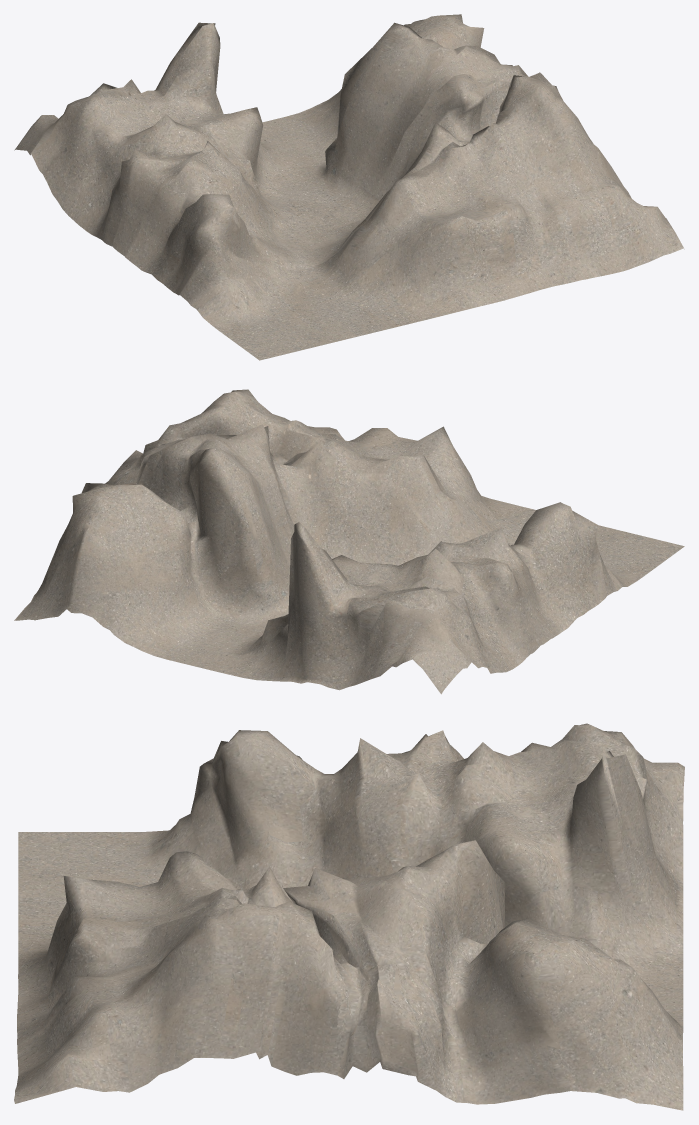
The model's file is Canyon.fbx.
3 renders of one model, top to bottom at view 1: azimuth 30°, elevation 25°; view 2: azimuth 150°, elevation 25°; view 3: azimuth 270°, elevation 25°, orthographic. The views are drawn at different scales.
Visible parts, largest first — view 1: LowPolyCanyon; view 2: LowPolyCanyon; view 3: LowPolyCanyon.
Part boxes in pixels (x1,y1,x2,y2): LowPolyCanyon: (14, 14, 684, 360); LowPolyCanyon: (14, 389, 684, 694); LowPolyCanyon: (14, 723, 684, 1110).
Size of the model in its own units: 1819 by 553 by 1740.
